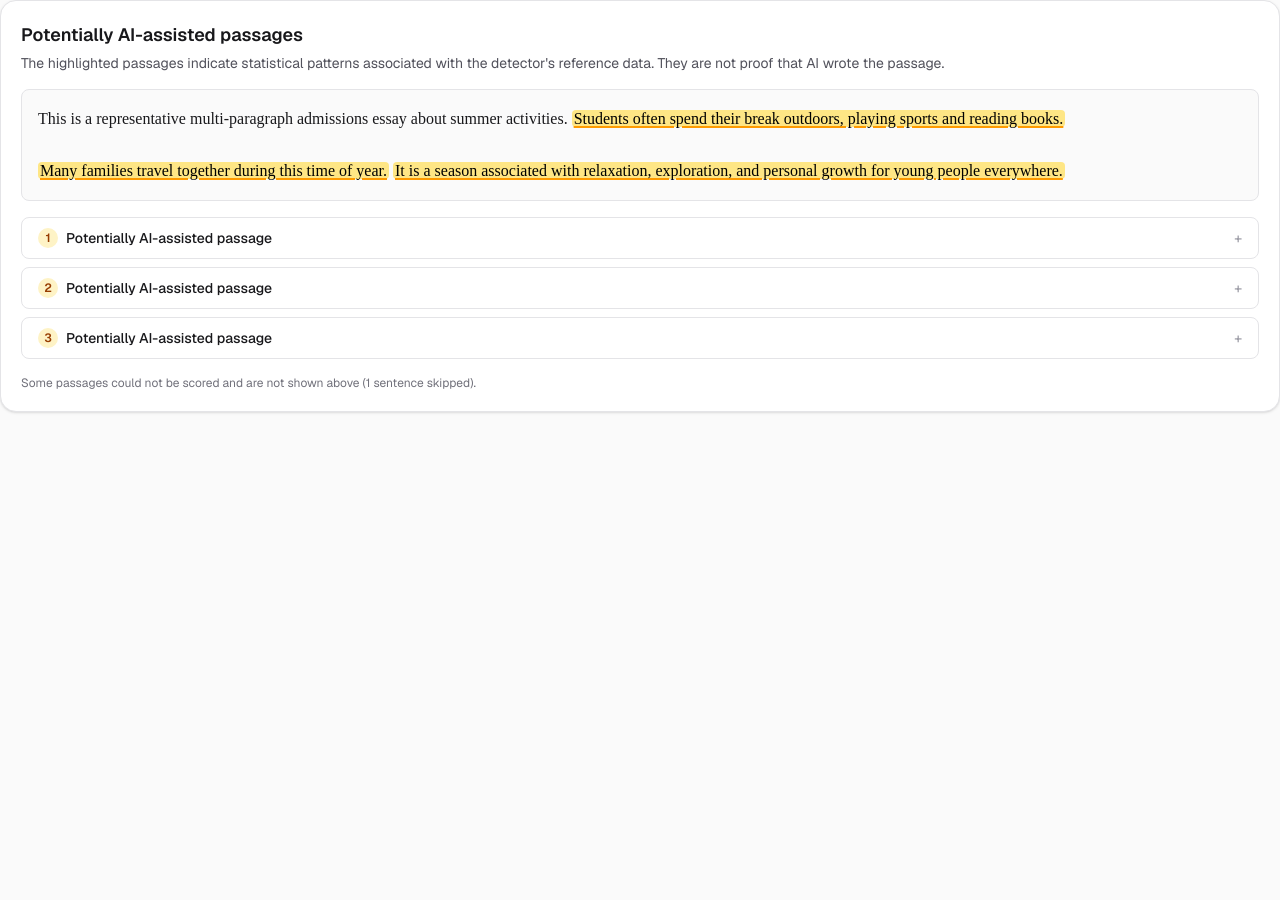
Scenario: EssayViewer › expands a candidate's evidence on click (item 12)
Click the button with aria-label "potentially ai-assisted passage".
click(818, 118)  # box [572,110,1065,127]
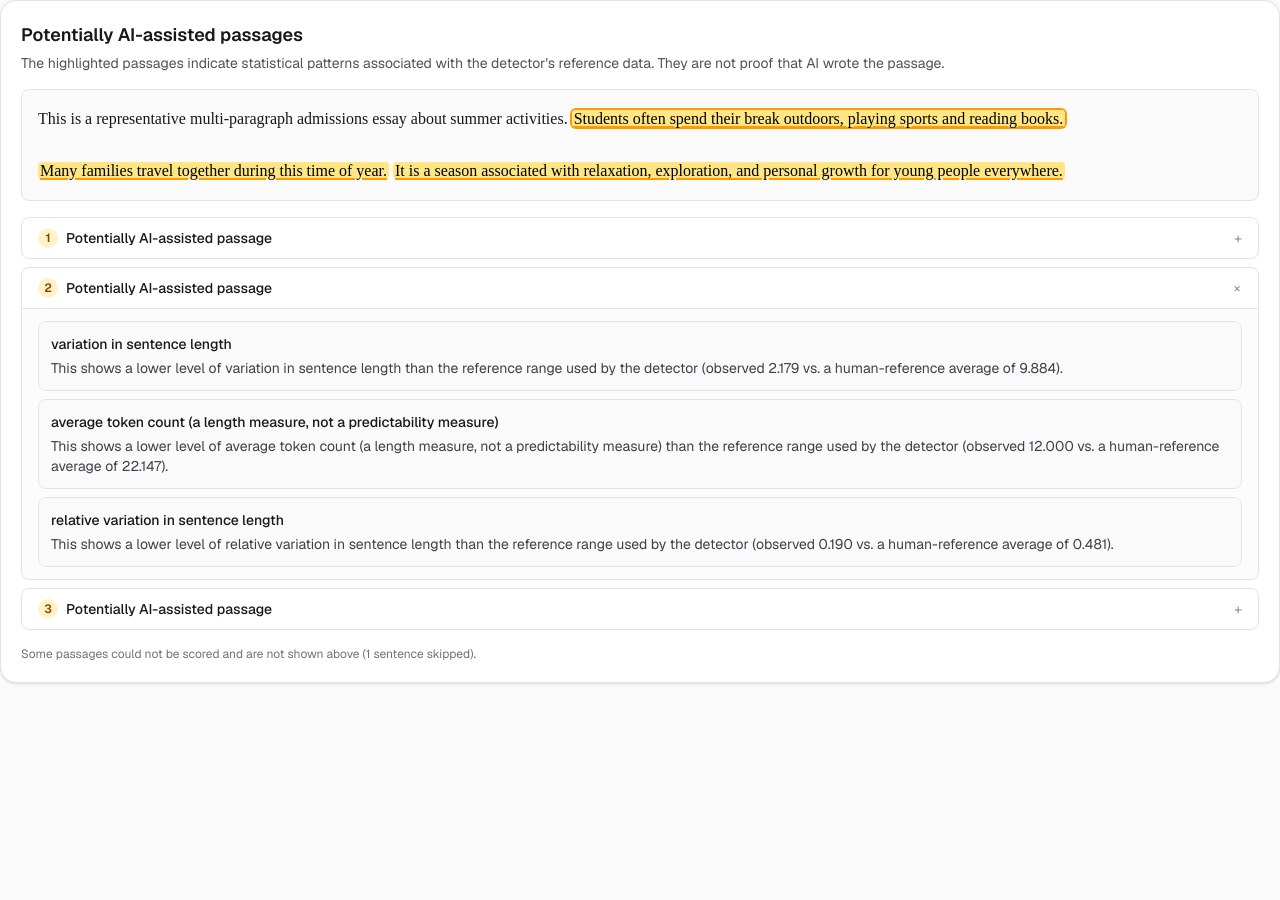
expect the text "This shows a lower level of variation in sentence length than the reference range used by the detector (observed 2.179 v" is shown: met, box [51,359,1063,377]
